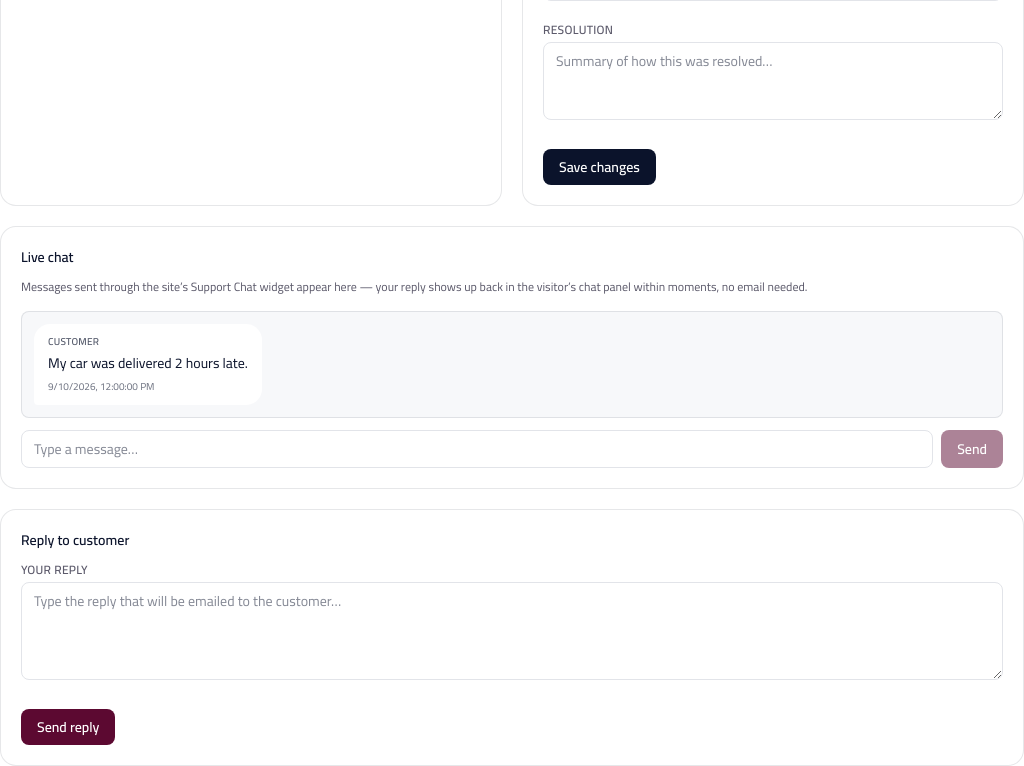
Scenario: ComplaintDetailPage — live chat › shows an error and keeps the draft when sending a chat reply fails
The width and height of the screenshot is (1024, 766).
(page scrolled)
Type "We are on it!" into the field with placeholder "Type a message…".
click(477, 449); type("We are on it!")  # box [21,430,933,468]
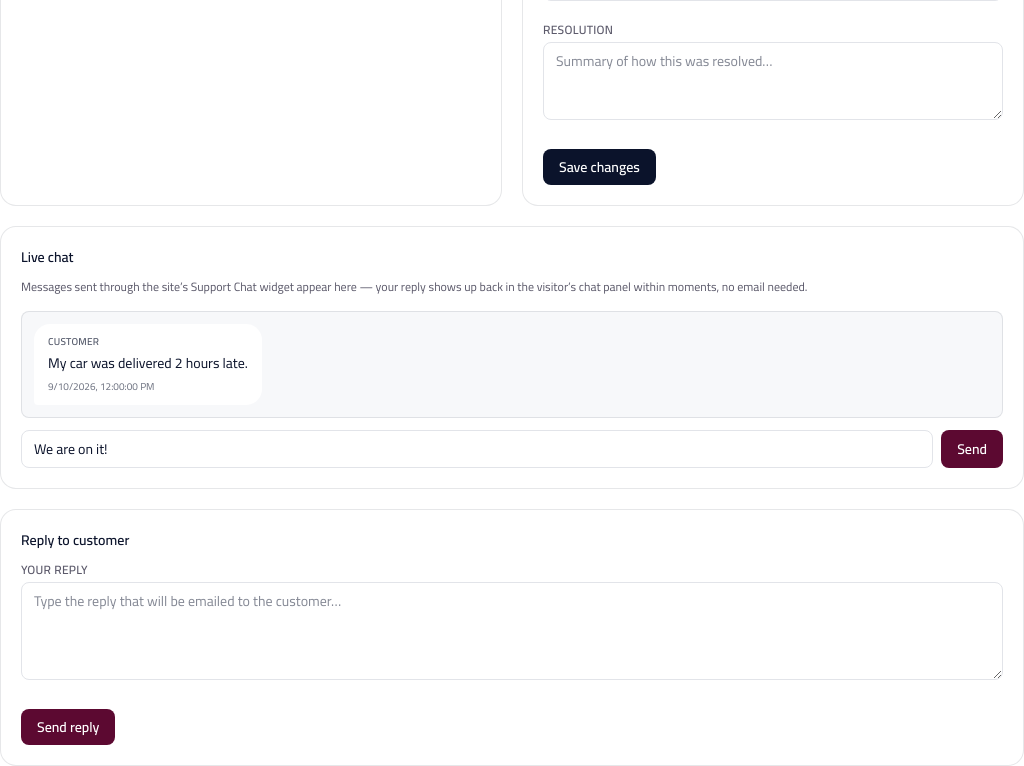
Click the button "Send".
click(972, 449)  # box [941,430,1003,468]
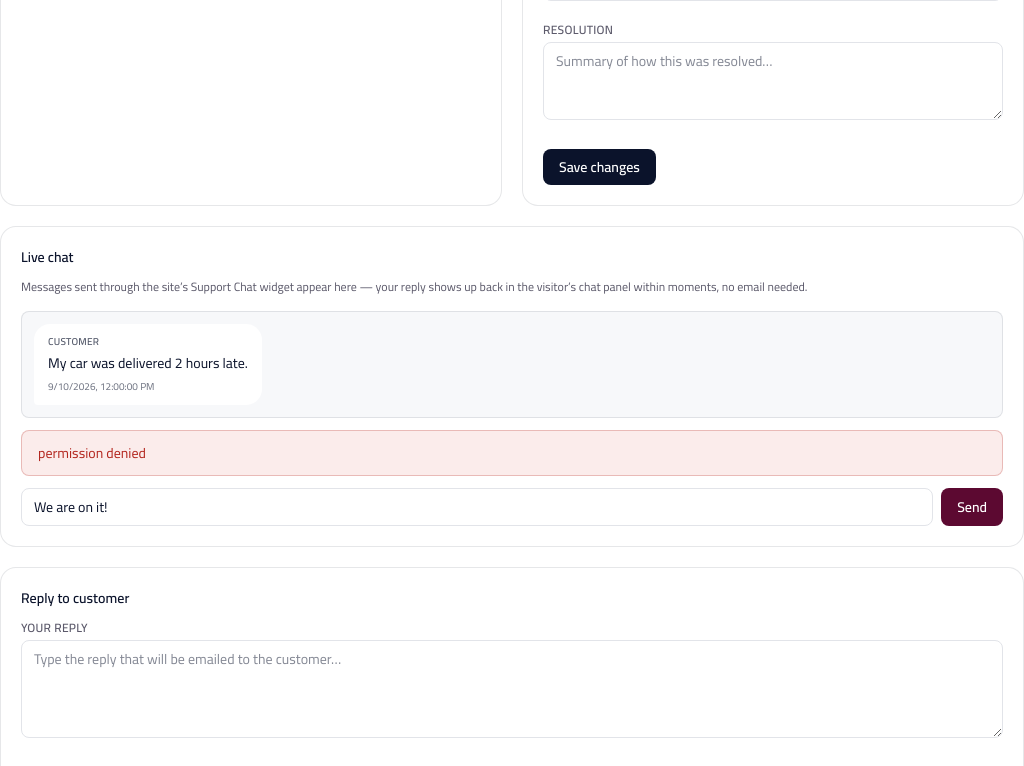
expect the text "permission denied" is shown: met, box [21,430,1003,476]
